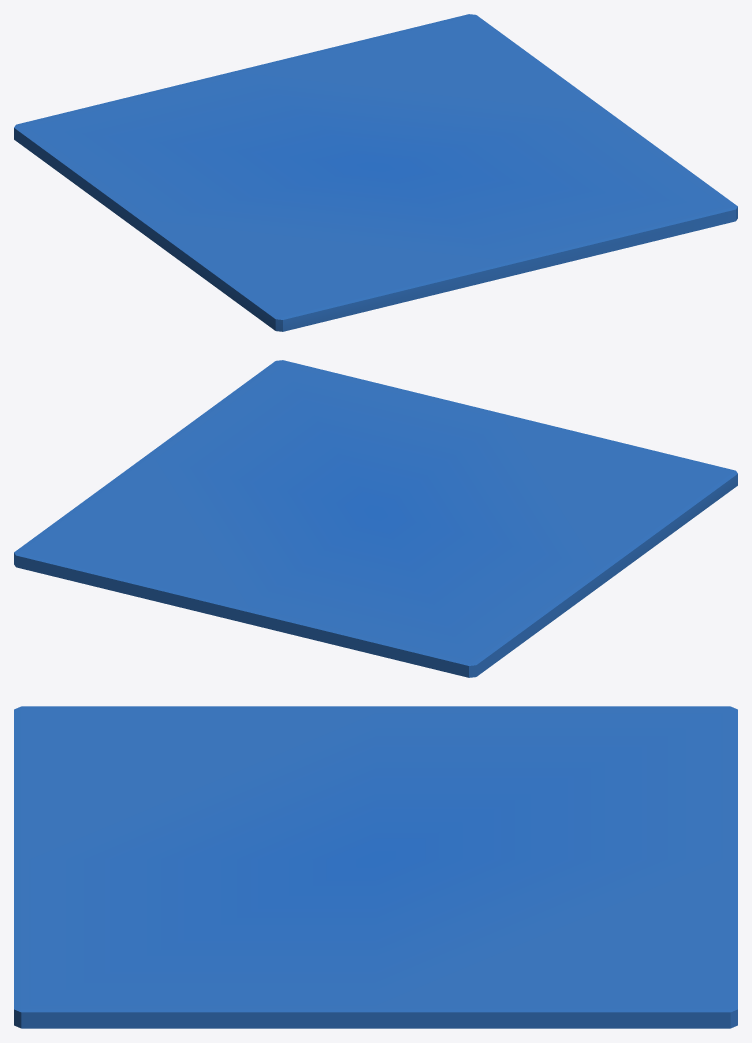
The model's file is ground.fbx.
3 views of the same model, one above another, from view 1: azimuth 30°, elevation 25°; view 2: azimuth 150°, elevation 25°; view 3: azimuth 270°, elevation 25° (orthographic). The views are drawn at different scales.
Visible parts, largest first — view 1: Cube.004; view 2: Cube.004; view 3: Cube.004.
Part boxes in pixels (<box>): Cube.004: <box>14,14,737,331</box>; Cube.004: <box>14,360,737,677</box>; Cube.004: <box>14,706,737,1028</box>.
Bounding box in the file's own units: 400 × 10 × 400.
